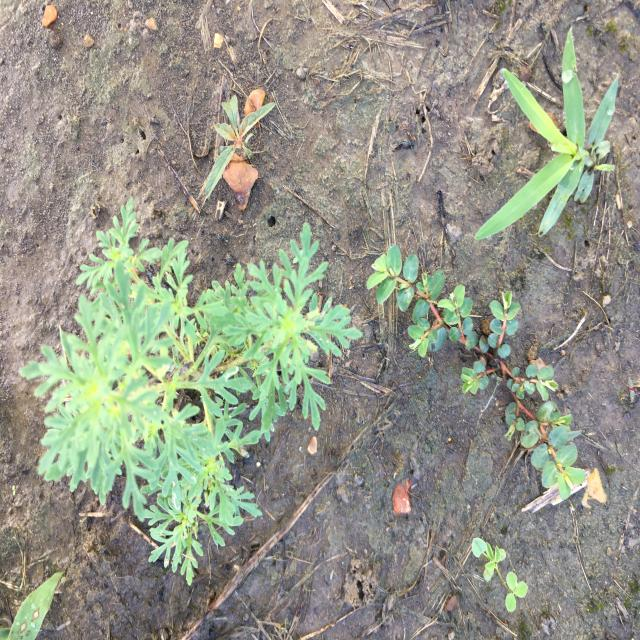Goosegrass: (472, 24, 622, 243)
Ragweed: (16, 196, 364, 590)
SpottedSpurge: (365, 243, 589, 503)
Waterhemp: (200, 91, 278, 201)
